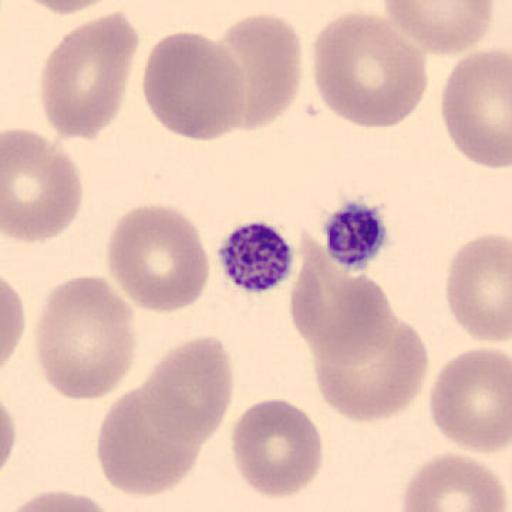Platelet: (215, 218, 297, 294), (320, 198, 391, 272)
RBC: (297, 266, 431, 425), (290, 265, 400, 405), (310, 9, 430, 131), (34, 272, 138, 402), (96, 382, 207, 498), (311, 316, 429, 424), (39, 12, 137, 142), (290, 252, 396, 370), (141, 28, 246, 142), (106, 202, 210, 314), (214, 9, 304, 132), (230, 397, 324, 500), (2, 128, 85, 244), (143, 335, 235, 439), (428, 346, 512, 454), (441, 46, 512, 170), (445, 231, 512, 344), (398, 451, 508, 512), (381, 0, 495, 55), (0, 488, 117, 512), (0, 274, 26, 372), (20, 0, 118, 17), (0, 397, 17, 476)
